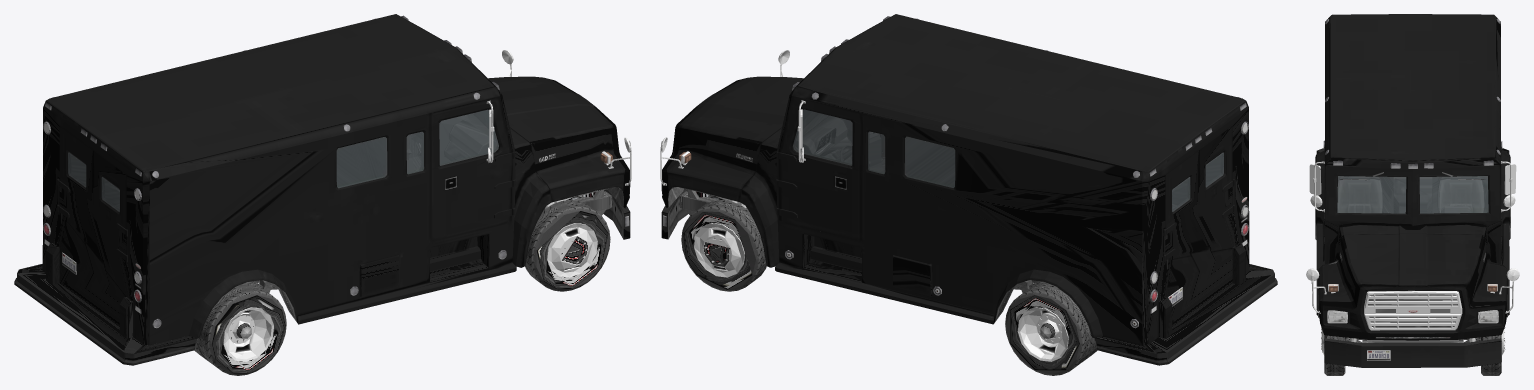
File: supply_truck.glb
3 renders of one model, left to right at view 1: azimuth 30°, elevation 25°; view 2: azimuth 150°, elevation 25°; view 3: azimuth 270°, elevation 25°, orthographic. The views are drawn at different scales.
Visible parts, largest first — view 1: MD84Armored_Body_MD84Armored_Bodymat_0, MD84Armored_WheelStock_FL_RB1c_Tire_1k_0, MD84Armored_Bottom_UCB_BOTTOM_0, MD84Armored_Headlights_Glass_UCB_Lights_and_Glass_Transperen, MD84Armored_Interior_UCB_Interiors_2_0; view 2: MD84Armored_Body_MD84Armored_Bodymat_0, MD84Armored_WheelStock_FL_RB1c_Tire_1k_0, MD84Armored_Bottom_UCB_BOTTOM_0, MD84Armored_Headlights_Glass_UCB_Lights_and_Glass_Transperen, MD84Armored_Interior_UCB_Interiors_2_0; view 3: MD84Armored_Body_MD84Armored_Bodymat_0, MD84Armored_Bottom_UCB_BOTTOM_0, MD84Armored_Headlights_Glass_UCB_Lights_and_Glass_Transperen, MD84Armored_Interior_UCB_Interiors_2_0, MD84Armored_WheelStock_FL_RB1c_Tire_1k_0, MD84Armored_Headlights_UCB_Lights_and_Glass_0, MD84Armored_Numberplate_Front_Numberplates_Misk_U_0.
Boxes of the visible parts, x1=… form: MD84Armored_Body_MD84Armored_Bodymat_0: x1=14, y1=14, x2=630, y2=365; MD84Armored_WheelStock_FL_RB1c_Tire_1k_0: x1=194, y1=200, x2=610, y2=375; MD84Armored_Bottom_UCB_BOTTOM_0: x1=43, y1=15, x2=631, y2=328; MD84Armored_Headlights_Glass_UCB_Lights_and_Glass_Transperen: x1=44, y1=109, x2=498, y2=312; MD84Armored_Interior_UCB_Interiors_2_0: x1=406, y1=115, x2=496, y2=172; MD84Armored_Body_MD84Armored_Bodymat_0: x1=661, y1=14, x2=1277, y2=365; MD84Armored_WheelStock_FL_RB1c_Tire_1k_0: x1=681, y1=200, x2=1097, y2=375; MD84Armored_Bottom_UCB_BOTTOM_0: x1=660, y1=16, x2=1248, y2=328; MD84Armored_Headlights_Glass_UCB_Lights_and_Glass_Transperen: x1=793, y1=109, x2=1247, y2=312; MD84Armored_Interior_UCB_Interiors_2_0: x1=795, y1=116, x2=885, y2=172; MD84Armored_Body_MD84Armored_Bodymat_0: x1=1315, y1=14, x2=1510, y2=367; MD84Armored_Bottom_UCB_BOTTOM_0: x1=1306, y1=18, x2=1519, y2=351; MD84Armored_Headlights_Glass_UCB_Lights_and_Glass_Transperen: x1=1329, y1=176, x2=1496, y2=322; MD84Armored_Interior_UCB_Interiors_2_0: x1=1337, y1=176, x2=1484, y2=212; MD84Armored_WheelStock_FL_RB1c_Tire_1k_0: x1=1315, y1=208, x2=1510, y2=375; MD84Armored_Headlights_UCB_Lights_and_Glass_0: x1=1329, y1=312, x2=1497, y2=321; MD84Armored_Numberplate_Front_Numberplates_Misk_U_0: x1=1367, y1=350, x2=1390, y2=360.
Size of the model in its own units: 1 by 0.407 by 0.4249.
8 materials, 8 textured.
